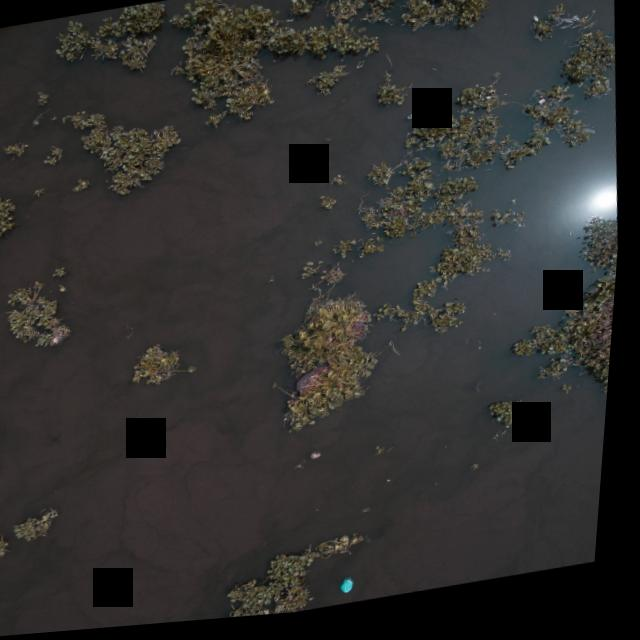plastic: (346, 580, 367, 603), (311, 451, 334, 465), (583, 133, 603, 145), (403, 116, 419, 127), (367, 511, 381, 520), (32, 117, 43, 128), (371, 541, 382, 550), (537, 106, 548, 115), (302, 162, 311, 172), (532, 22, 541, 31), (486, 101, 494, 108), (582, 392, 588, 398), (282, 617, 291, 620)
